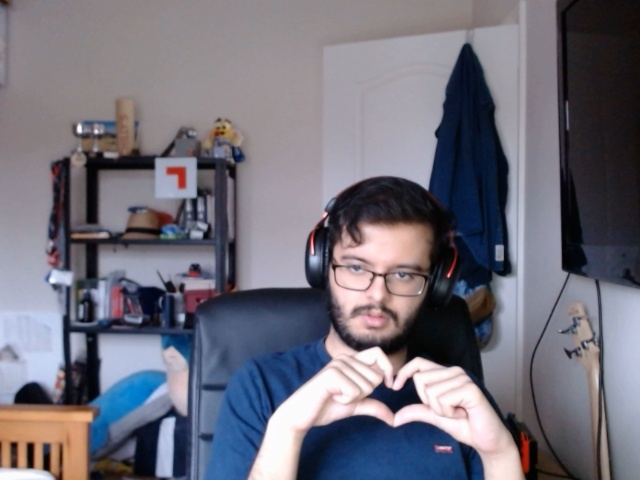Heart: (329, 341, 473, 428)
